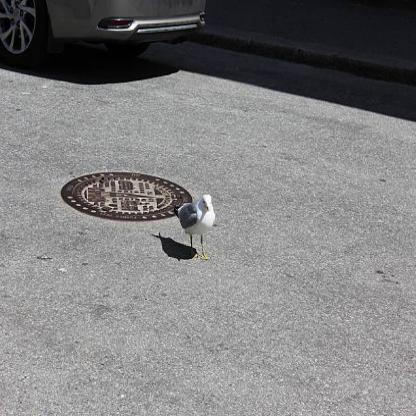manholes: (48, 139, 210, 257)
